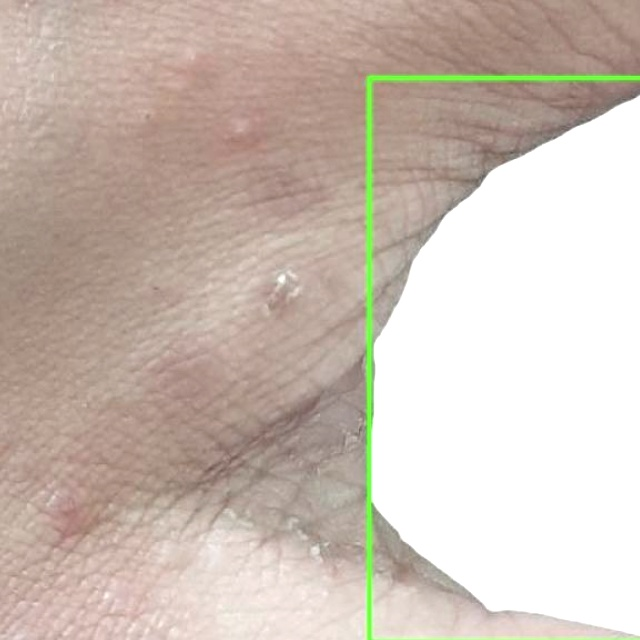Scabies: (369, 77, 639, 639)
